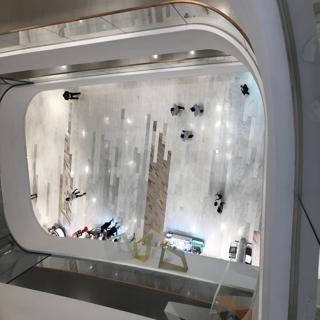person: (207, 191, 231, 215), (58, 89, 89, 103), (65, 187, 88, 205), (236, 74, 250, 101), (169, 98, 182, 122), (189, 102, 204, 119)
